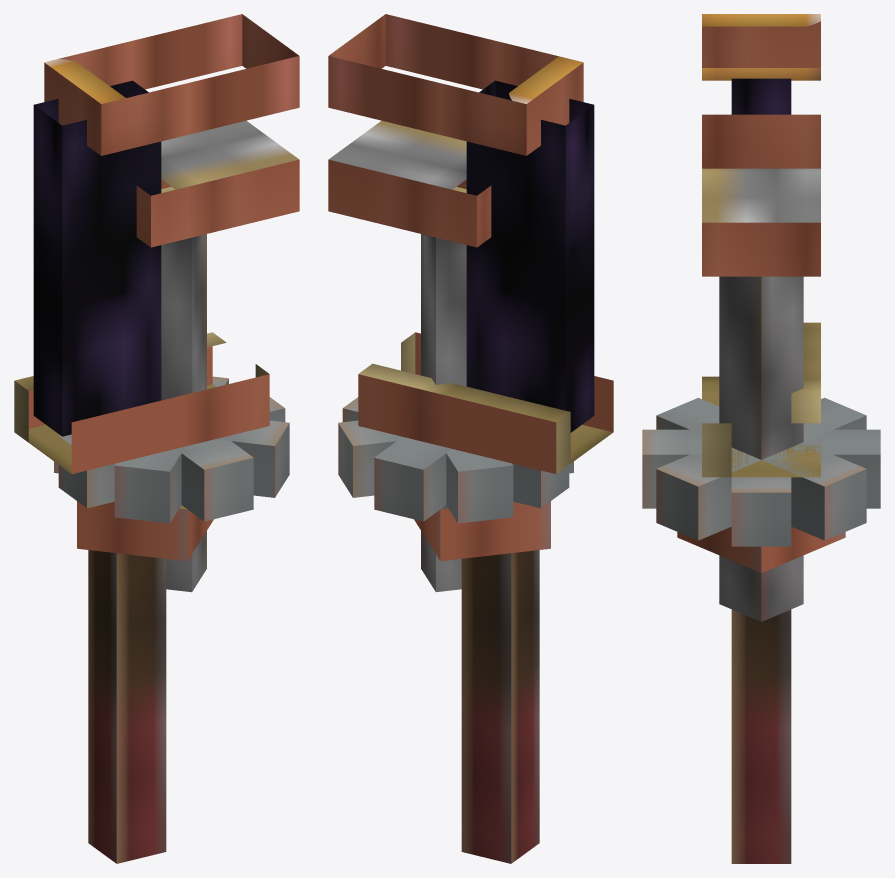
The picture shows the model from 3 angles, left to right: view 1: azimuth 30°, elevation 25°; view 2: azimuth 150°, elevation 25°; view 3: azimuth 270°, elevation 25°; orthographic projection. The views are drawn at different scales.
Visible parts, largest first — view 1: handle, top thing, Cog, bottom thing, gear case top, axle, gear case; view 2: handle, top thing, gear case top, Cog, bottom thing, axle, gear case; view 3: Cog, axle, handle, top thing, bottom thing, gear case top, gear case.
Boxes of the visible parts, left/top/right/bottom form: handle: left=33, top=80, right=166, bottom=863; top thing: left=44, top=14, right=299, bottom=155; Cog: left=54, top=376, right=289, bottom=523; bottom thing: left=136, top=120, right=299, bottom=247; gear case top: left=14, top=332, right=269, bottom=473; axle: left=161, top=234, right=206, bottom=592; gear case: left=77, top=501, right=213, bottom=561; handle: left=461, top=80, right=594, bottom=863; top thing: left=328, top=14, right=583, bottom=155; gear case top: left=358, top=332, right=613, bottom=473; Cog: left=338, top=397, right=573, bottom=523; bottom thing: left=328, top=120, right=491, bottom=247; axle: left=421, top=234, right=466, bottom=592; gear case: left=414, top=501, right=550, bottom=561; Cog: left=642, top=397, right=880, bottom=546; axle: left=719, top=276, right=803, bottom=621; handle: left=731, top=78, right=791, bottom=863; top thing: left=702, top=14, right=820, bottom=168; bottom thing: left=702, top=168, right=820, bottom=276; gear case top: left=702, top=322, right=820, bottom=477; gear case: left=677, top=526, right=845, bottom=572.
Bounding box in the file's own units: 0.2875 × 0.9375 × 0.25.
1 material, 1 textured.
